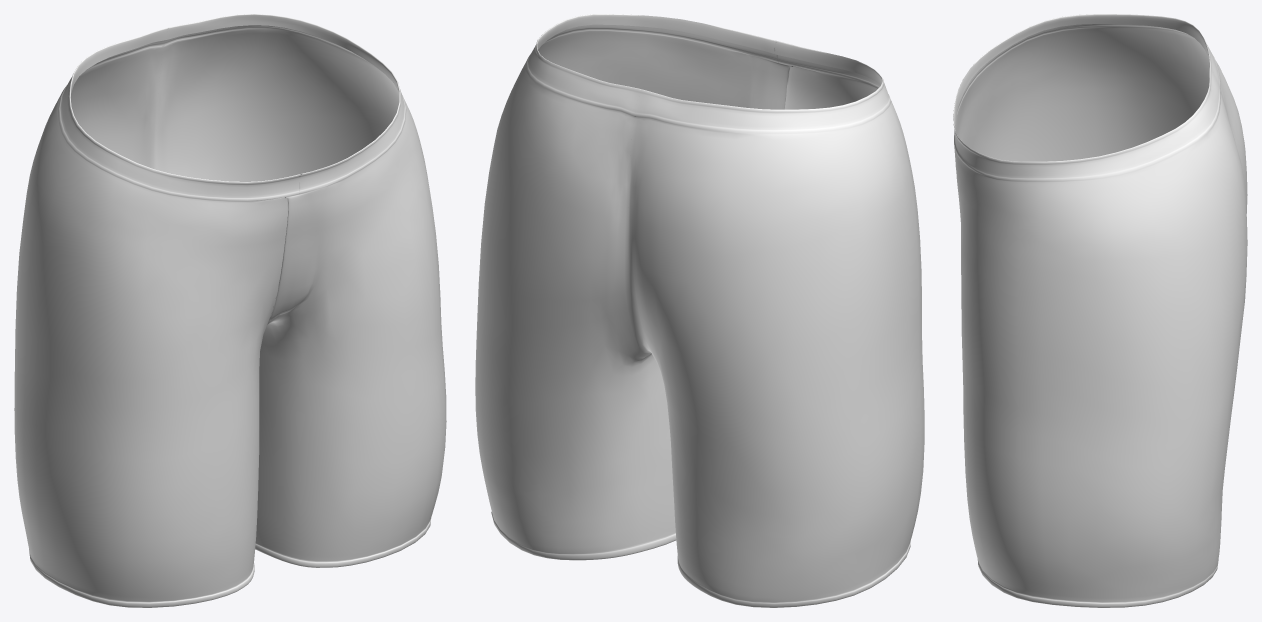
Rendered from Shorts.glb.
The picture shows the model from 3 angles, left to right: view 1: azimuth 30°, elevation 25°; view 2: azimuth 150°, elevation 25°; view 3: azimuth 270°, elevation 25°; orthographic projection. The views are drawn at different scales.
Visible parts, largest first — view 1: Boxers_for_Genesis.001; view 2: Boxers_for_Genesis.001; view 3: Boxers_for_Genesis.001.
Boxes of the visible parts, bbox=[...] form: Boxers_for_Genesis.001: bbox=[14, 14, 446, 607]; Boxers_for_Genesis.001: bbox=[475, 14, 924, 607]; Boxers_for_Genesis.001: bbox=[953, 14, 1247, 607].
Size of the model in its own units: 8.83 by 10.3 by 6.
1 material, 1 textured.
